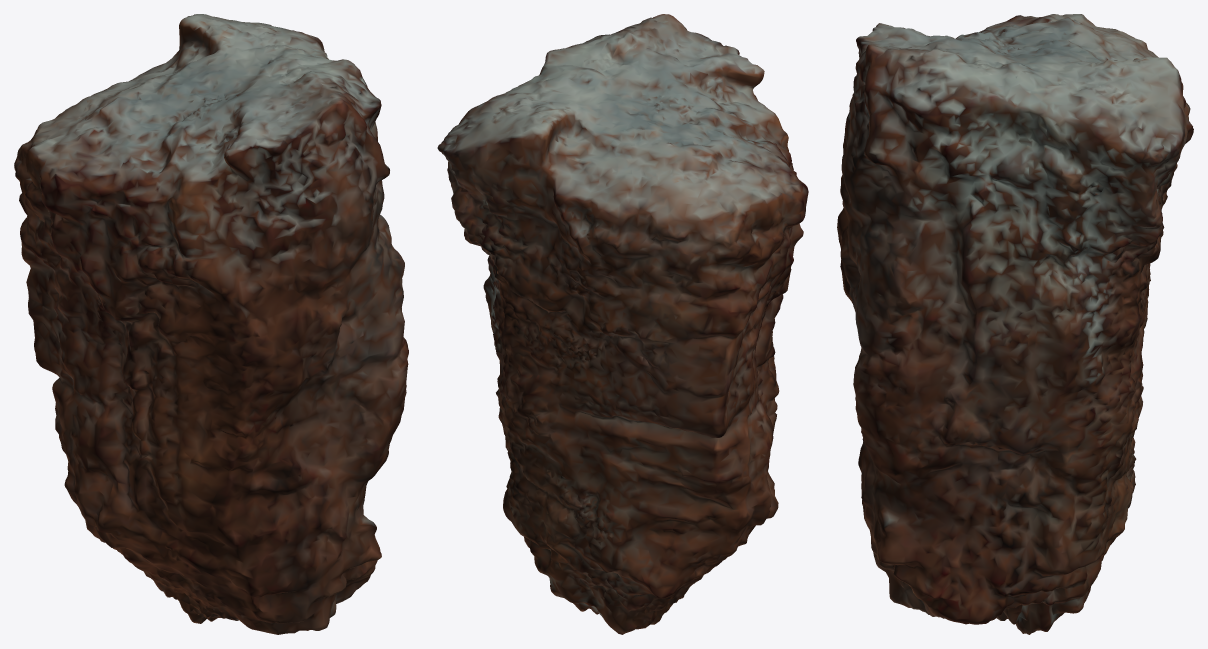
File: CliffRockA8B.fbx
3 renders of one model, left to right at view 1: azimuth 30°, elevation 25°; view 2: azimuth 150°, elevation 25°; view 3: azimuth 270°, elevation 25°, orthographic. The views are drawn at different scales.
Parts seen in each view (by area): view 1: CliffRockA8B; view 2: CliffRockA8B; view 3: CliffRockA8B.
Boxes of the visible parts, bbox=[...] form: CliffRockA8B: bbox=[14, 14, 408, 634]; CliffRockA8B: bbox=[437, 14, 808, 634]; CliffRockA8B: bbox=[837, 14, 1193, 634].
Bounding box in the file's own units: 26.01 × 44.48 × 24.12.
